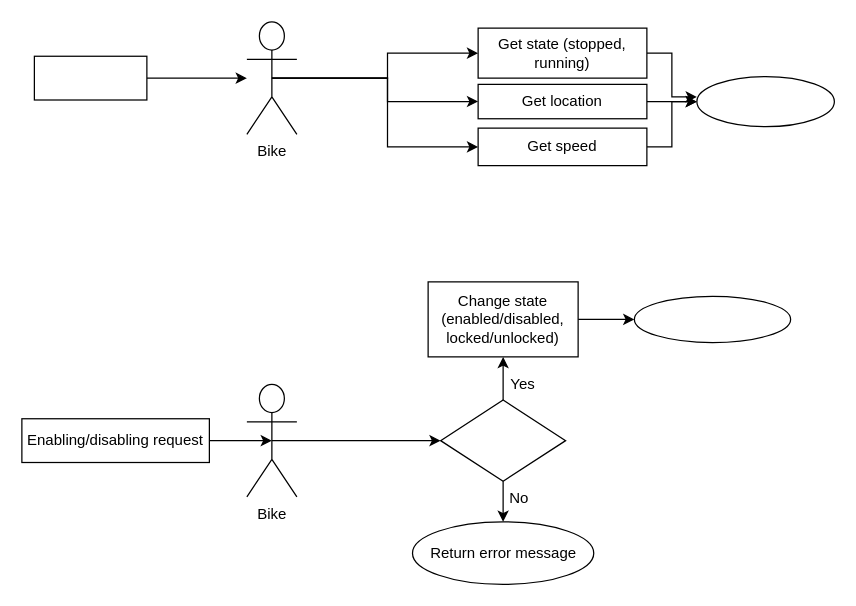
Some shapes in this 856 by 606 pixel diagram are drawn without their labels. The centre of each missing label's shape, as x and y in pixels:
"Authorized?" goes at point (502, 440).
"Interval" goes at point (90, 77).
"Return success" goes at point (712, 318).
"Send response" goes at point (765, 101).
